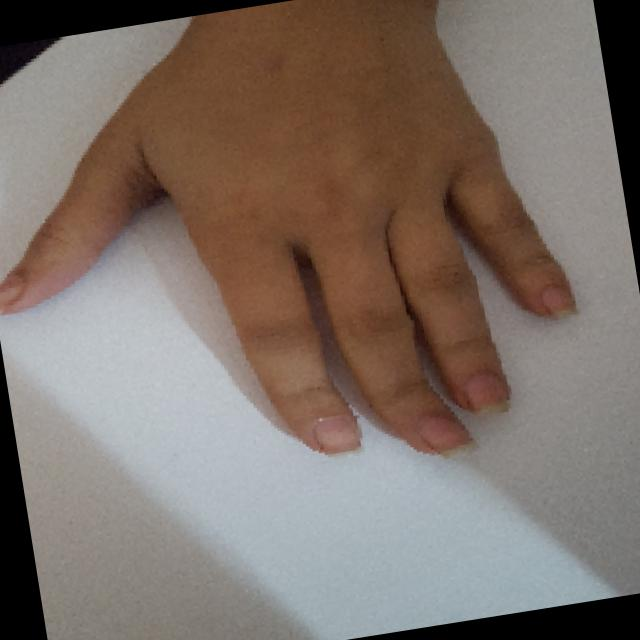Nail: (417, 417, 476, 458), (464, 372, 510, 414), (312, 416, 359, 454), (540, 286, 576, 319), (0, 274, 25, 311)
